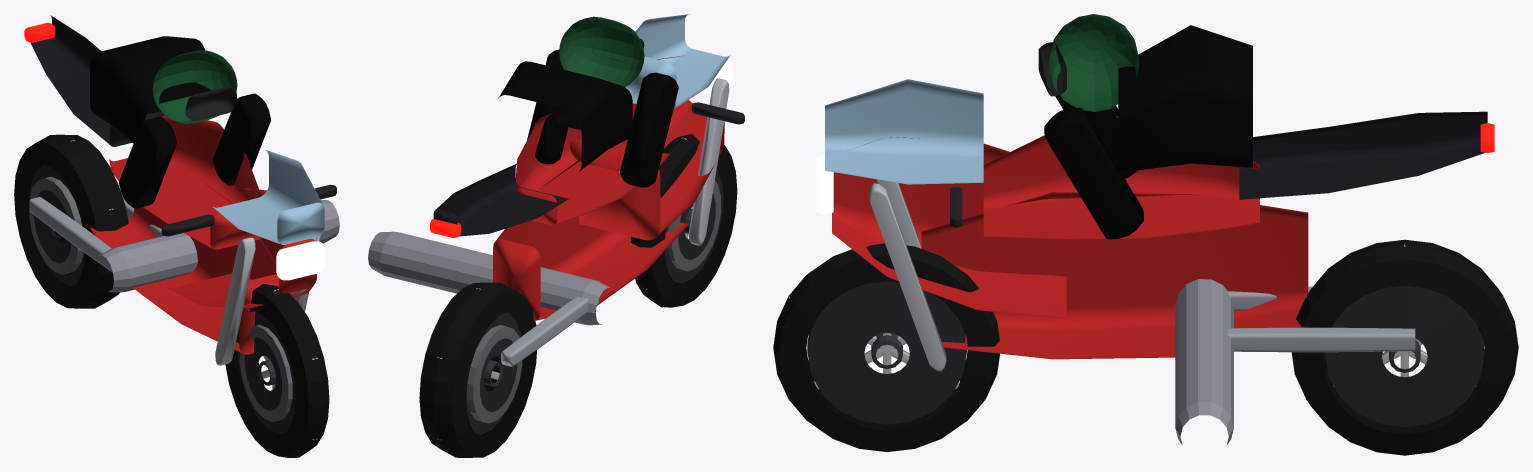
File: bmw_s1000rr.glb
3 renders of one model, left to right at view 1: azimuth 30°, elevation 25°; view 2: azimuth 150°, elevation 25°; view 3: azimuth 270°, elevation 25°, orthographic. The views are drawn at different scales.
Visible parts, largest first — view 1: root, wheelRL, wheelFL; view 2: root, wheelRL, wheelFL; view 3: root, wheelRL, wheelFL.
Boxes of the visible parts, left/top/right/bottom form: root: left=24, top=15, right=339, bottom=365; wheelRL: left=14, top=134, right=128, bottom=308; wheelFL: left=225, top=284, right=329, bottom=457; root: left=368, top=14, right=744, bottom=366; wheelRL: left=419, top=282, right=536, bottom=457; wheelFL: left=631, top=134, right=737, bottom=307; root: left=816, top=14, right=1494, bottom=445; wheelRL: left=1291, top=239, right=1518, bottom=455; wheelFL: left=773, top=243, right=999, bottom=451.
Size of the model in its own units: 1.13 by 1.37 by 2.16.
